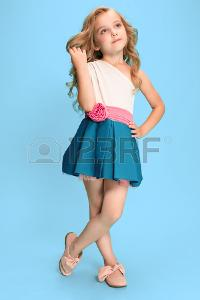person: (62, 5, 141, 111)
